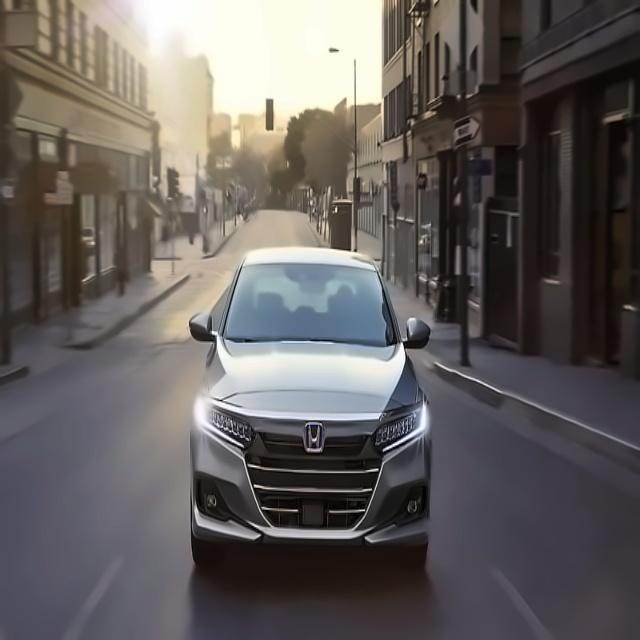Car hood: (195, 345, 435, 430)
Headlight - -L-: (376, 395, 433, 457)
Headlight - -R-: (189, 400, 254, 457)
Side mirror - -L-: (185, 426, 435, 553), (400, 317, 434, 351)
Side mirror - -R-: (188, 311, 222, 351)
